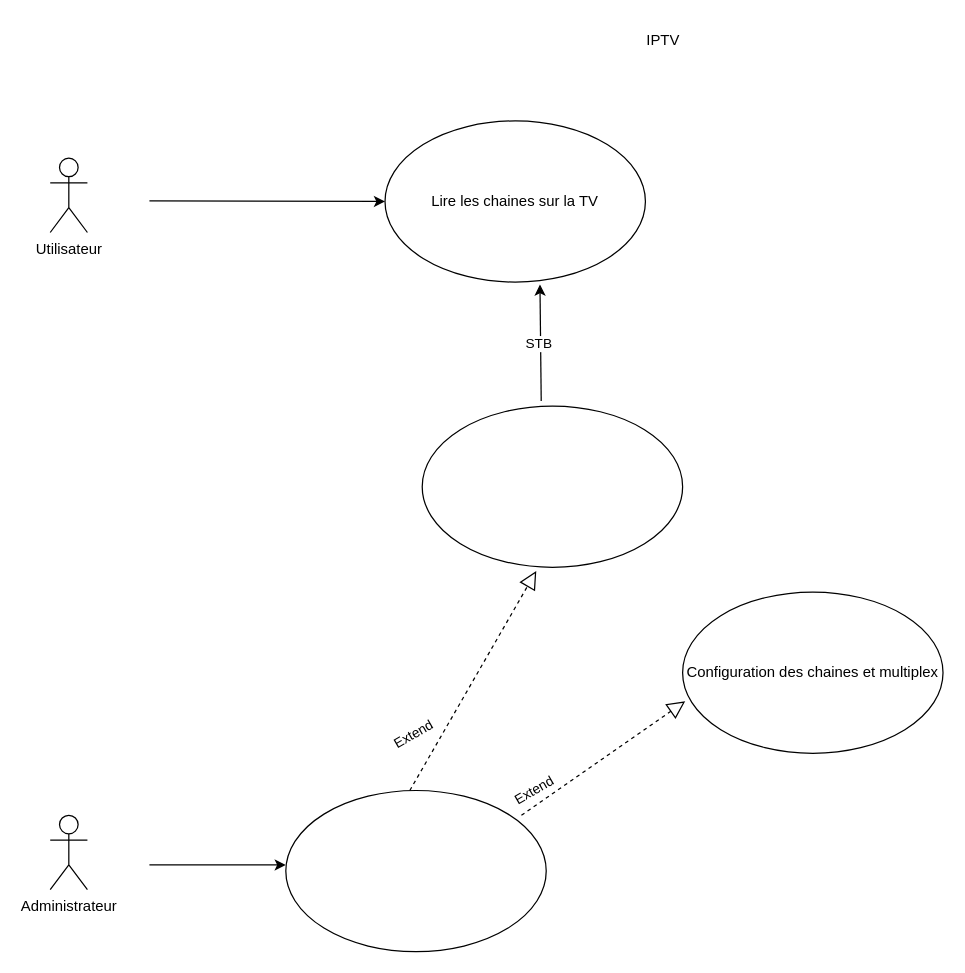
Image size: 965x973. Some labels were removed from this diagram. The centre of each missing label's shape, as x and y in pixels:
Codage de l'interface: the point at 415,870
Diffuser sur le réseaux: the point at 552,486
